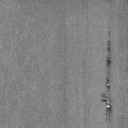slag inclusion: (100, 93, 114, 121), (105, 30, 112, 68), (104, 78, 110, 90)
